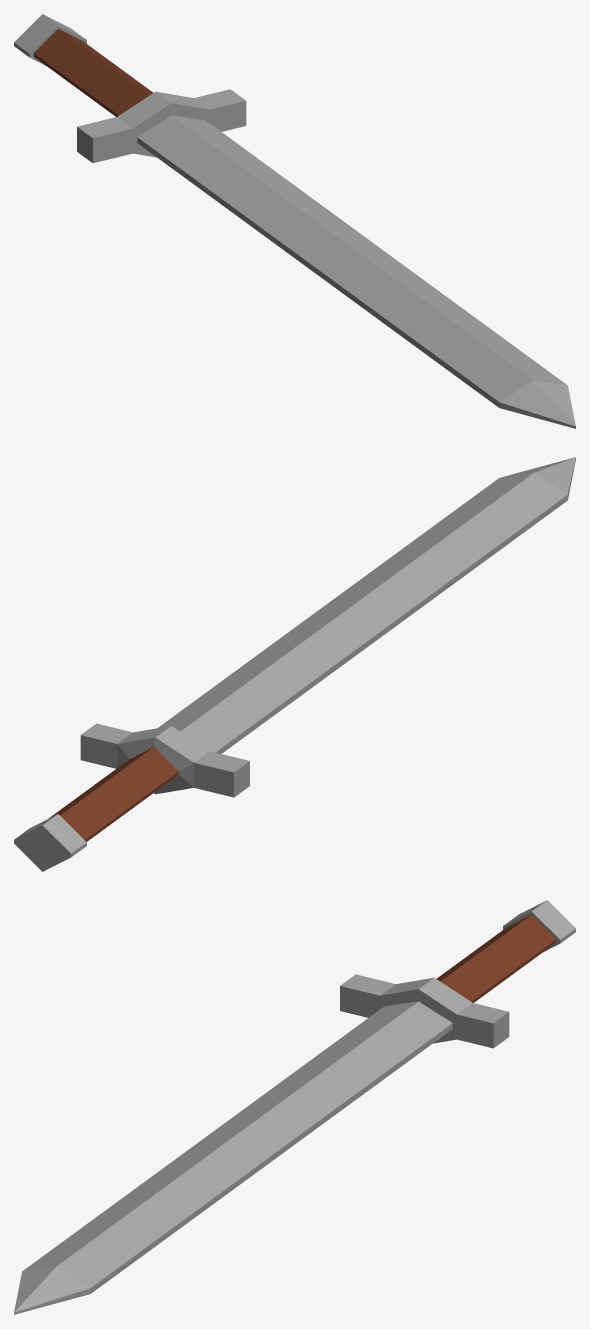
Rendered from Sword_Full.fbx.
3 renders of one model, top to bottom at view 1: azimuth 30°, elevation 25°; view 2: azimuth 150°, elevation 25°; view 3: azimuth 330°, elevation 25°, orthographic.
Parts seen in each view (by area): view 1: Cube.002; view 2: Cube.002; view 3: Cube.002.
Part boxes in pixels (left/top/right/bottom): Cube.002: left=14, top=14, right=575, bottom=428; Cube.002: left=14, top=457, right=575, bottom=871; Cube.002: left=14, top=900, right=575, bottom=1314.
Bounding box in the file's own units: 25.99 × 9.2 × 156.
